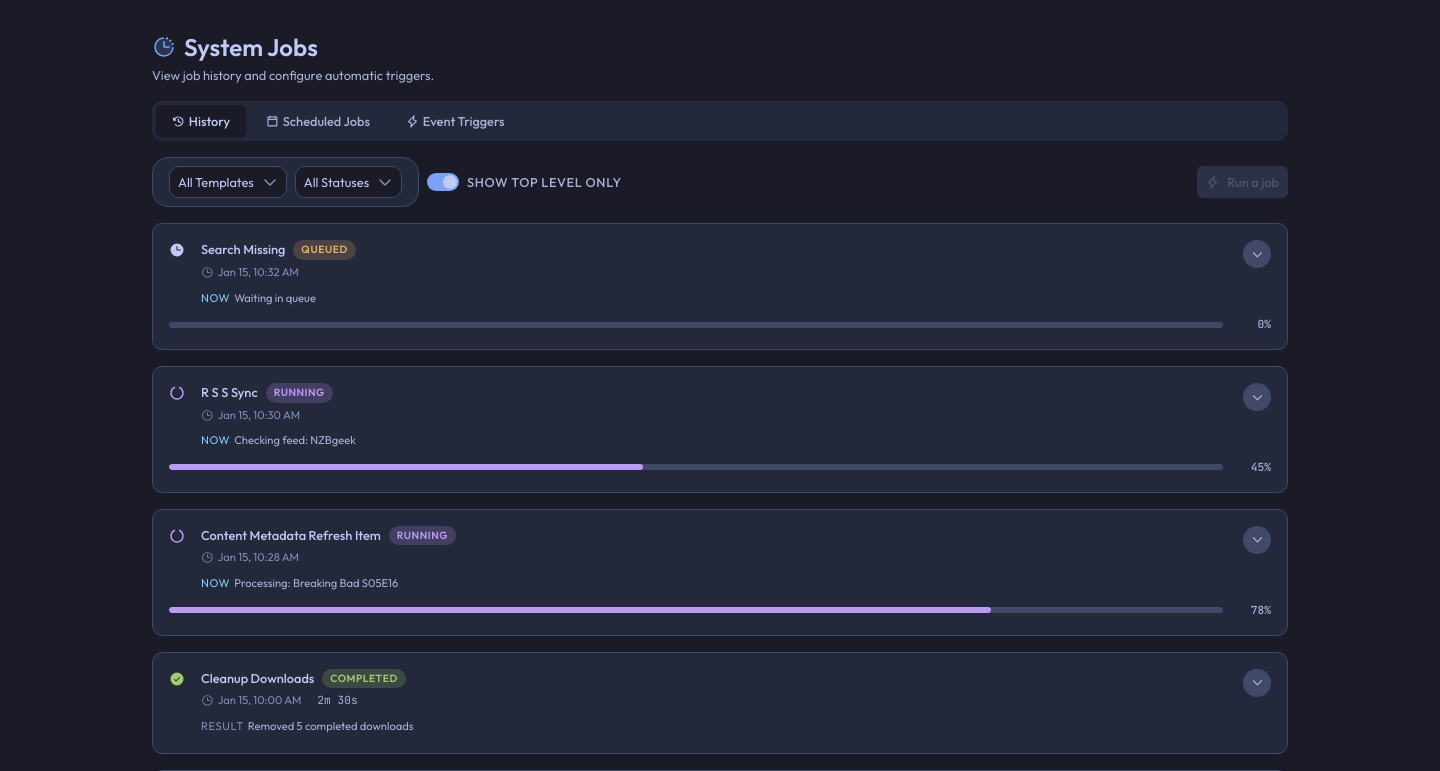
Test case: JobsPage Executions tab - filtering › filters executions by template (jobType)
Click the dropdown named "filter by template".
click(228, 182)  # box [169,166,287,198]
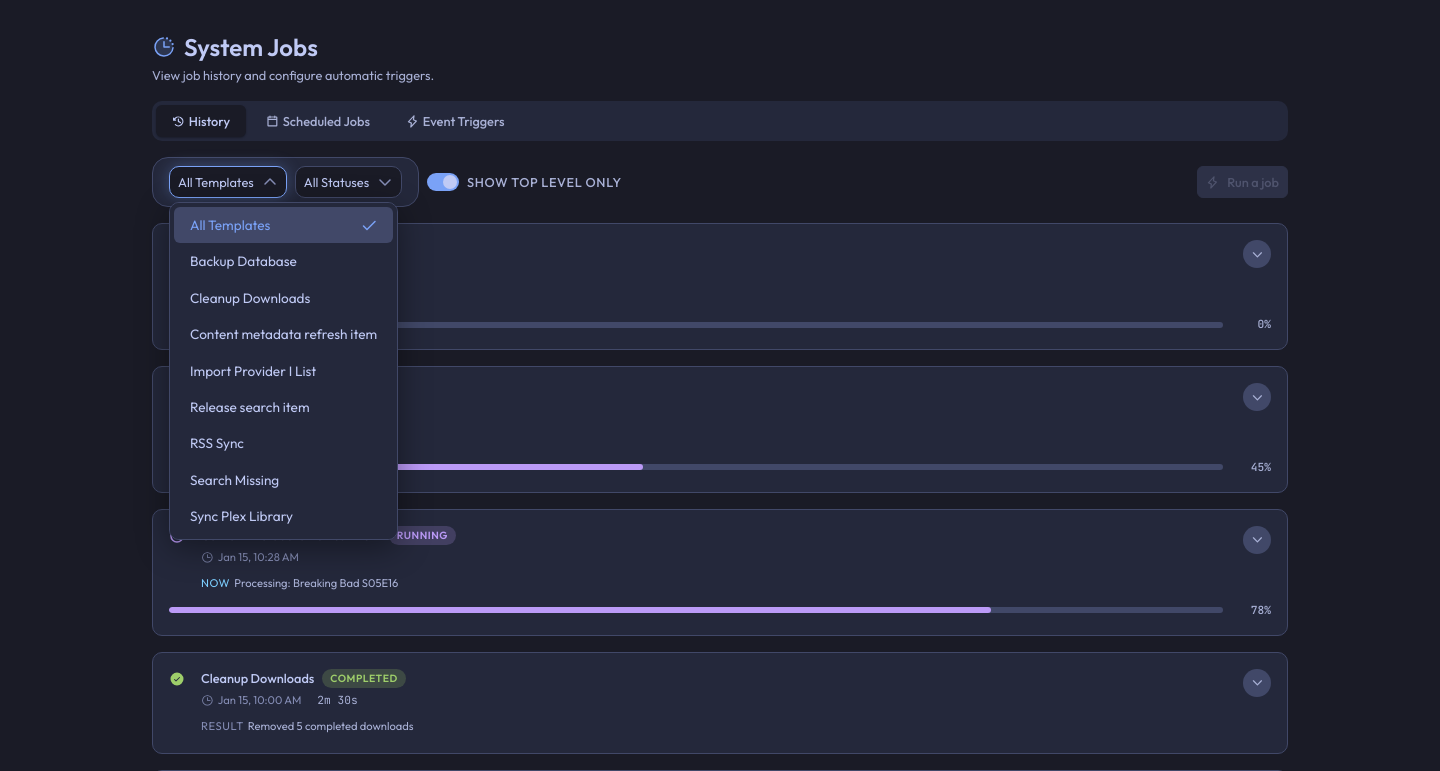
Click the option "RSS Sync".
click(217, 443)  # box [190,434,244,452]
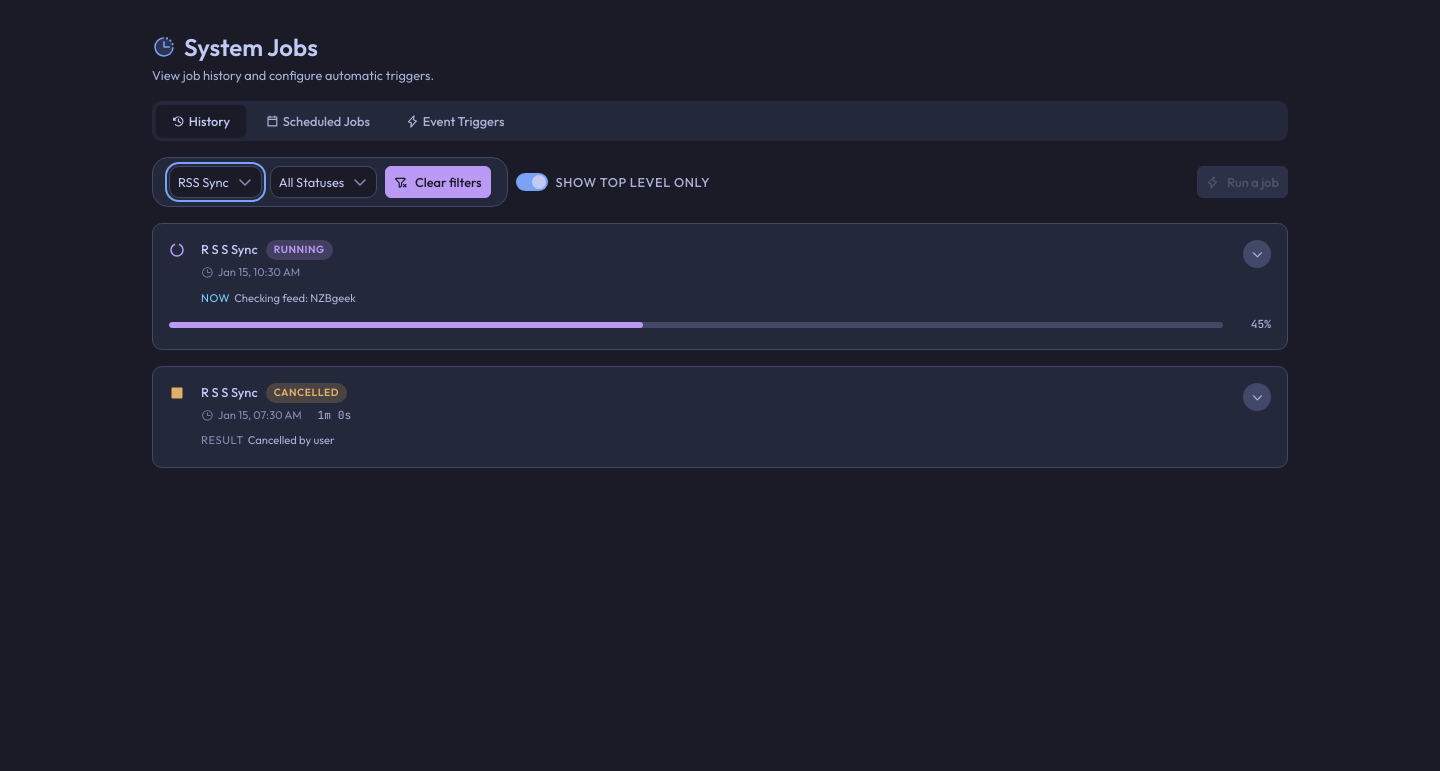
Expected: the number of list items is 2, [152,223,1288,350]; [152,366,1288,468]
